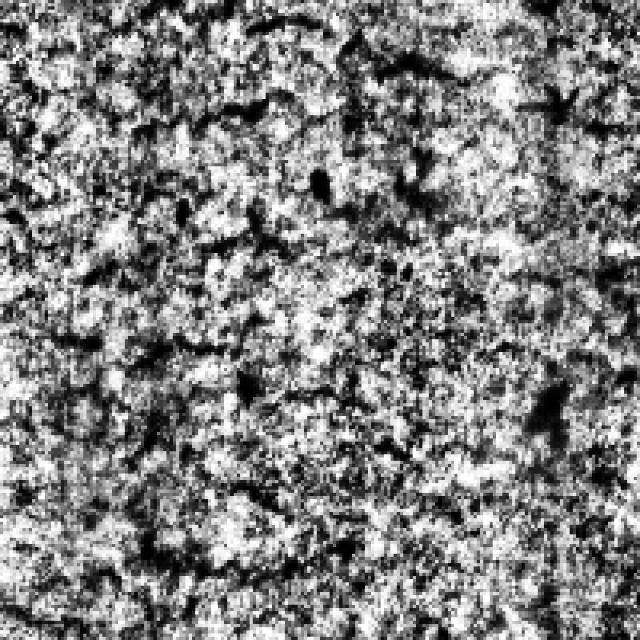Pitted_Surface: (32, 282, 378, 634), (83, 6, 624, 141)
